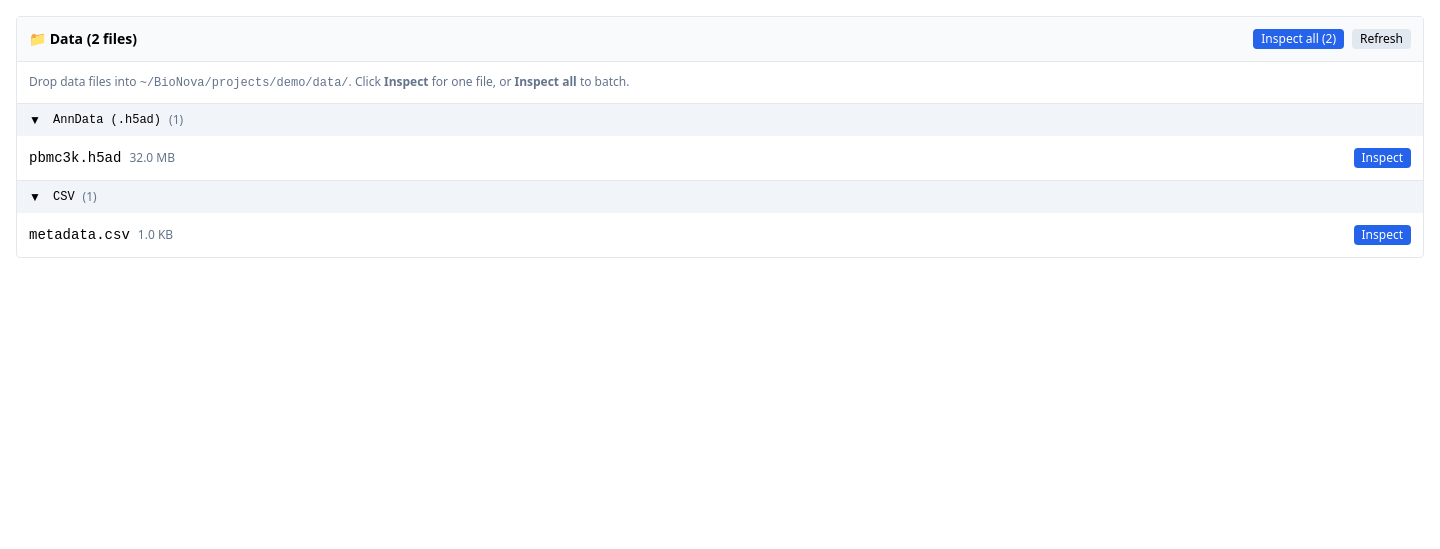
Test: DataPanel › Inspect-all batches every file
expect the text "pbmc3k.h5ad" is shown: met, box [29,148,121,168]
What coordinates should you click on to do the following:
click the button with test id "data-inspect-all"
I would click on:
 (1299, 39)
Its box is [1253,29,1344,49].
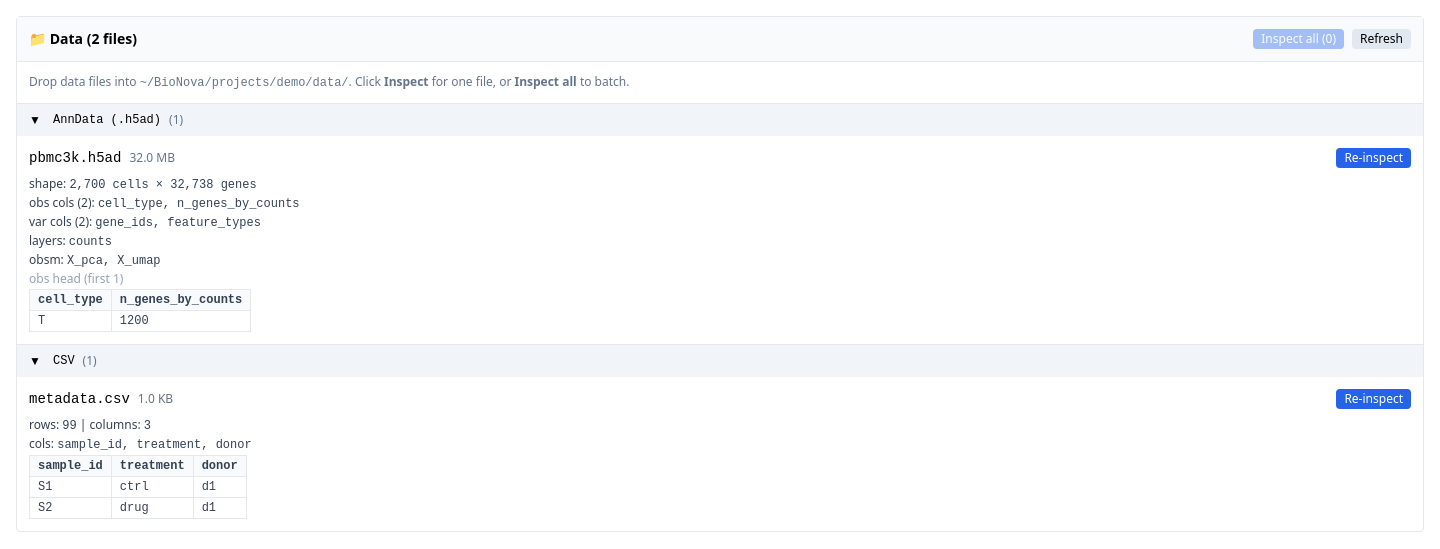
expect the text "2,700 cells × 32,738 genes" is shown: met, box [69,178,257,192]
expect the element with test id "preview-table" is shown: met, box [30,456,246,518]
